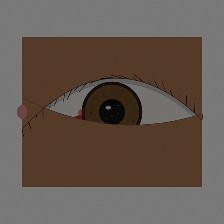hemorrhage_spot: (58, 90, 141, 157)
